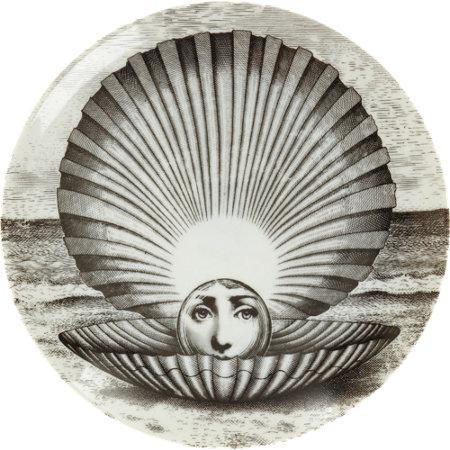person: (182, 279, 275, 363)
